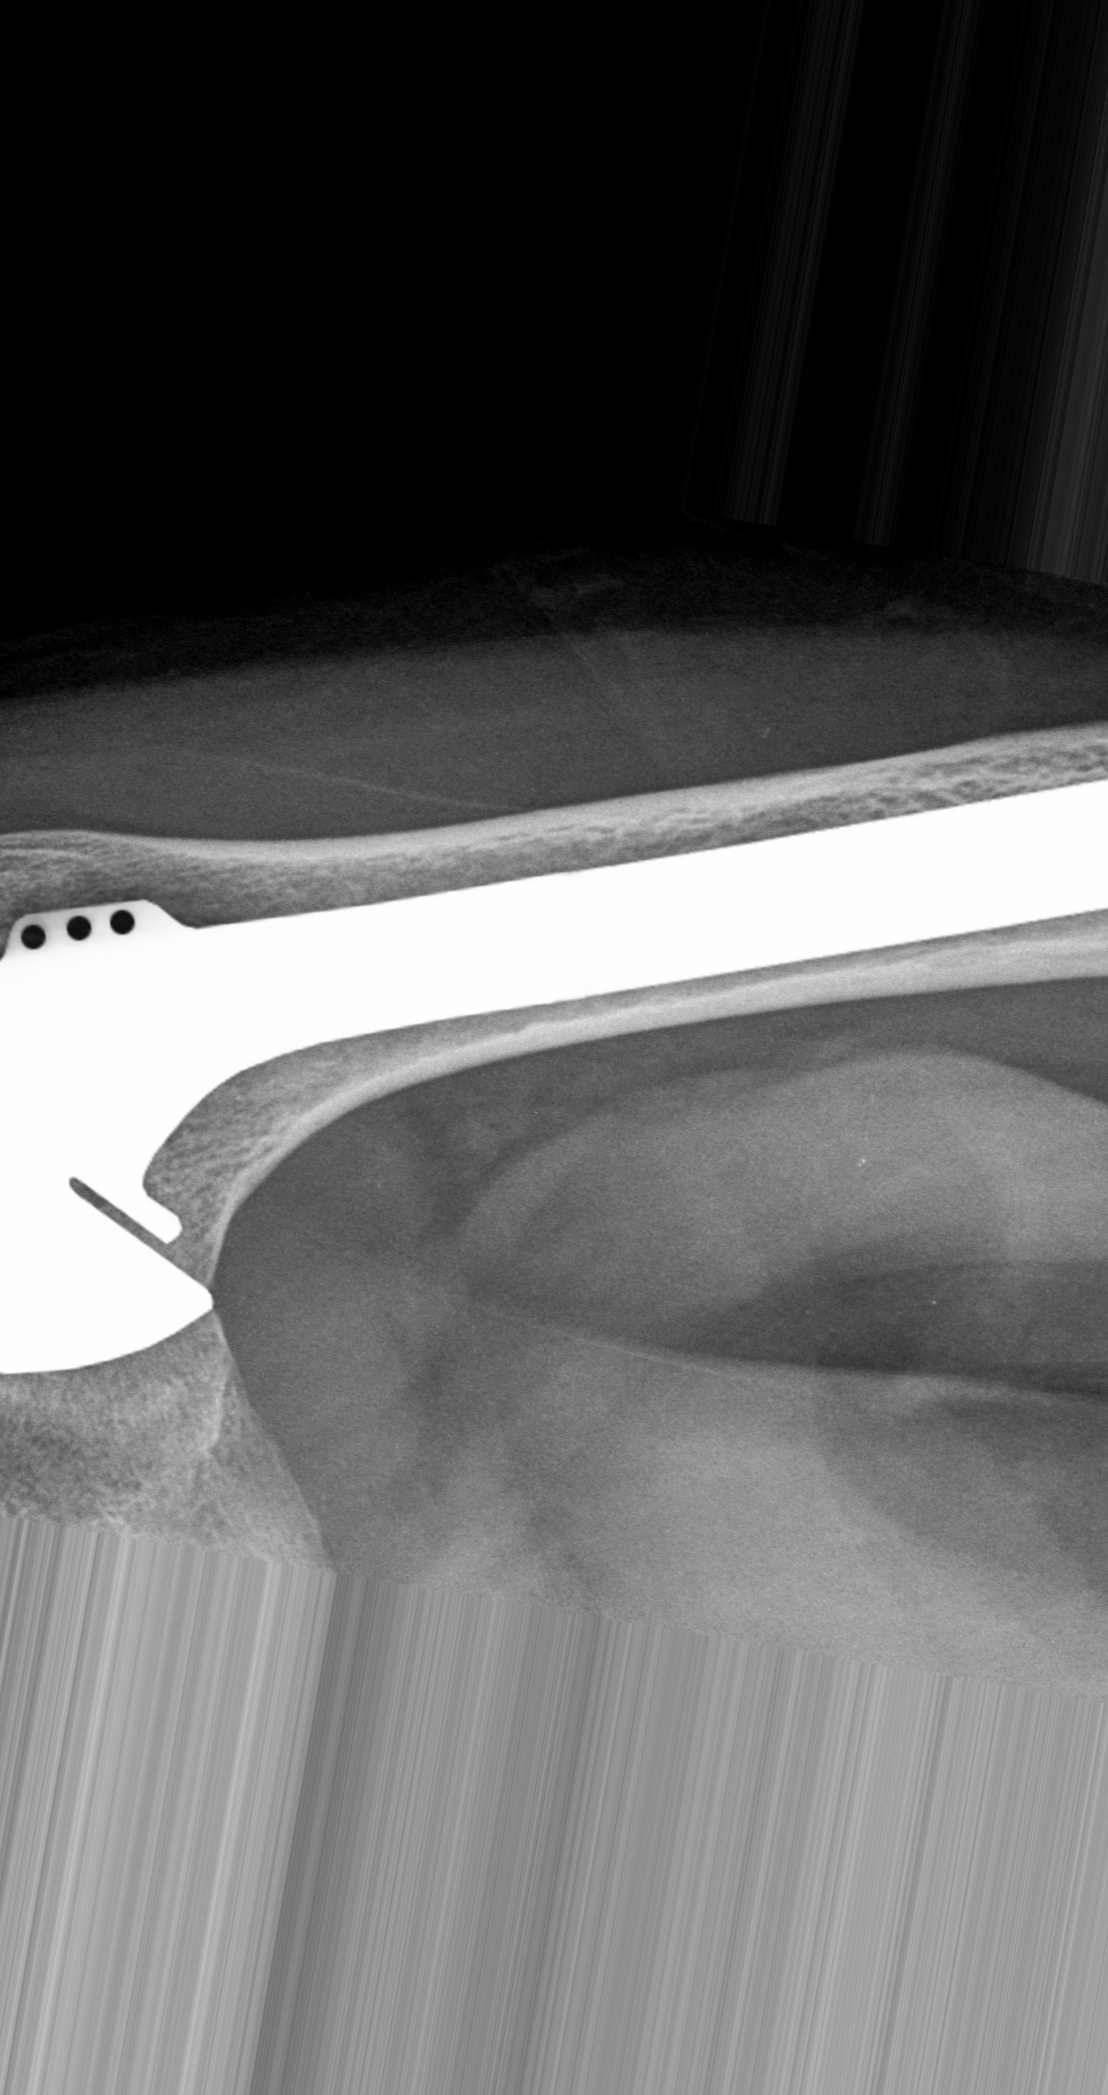Shoulder-Olympia-Wright: (3, 758, 1107, 1412)
